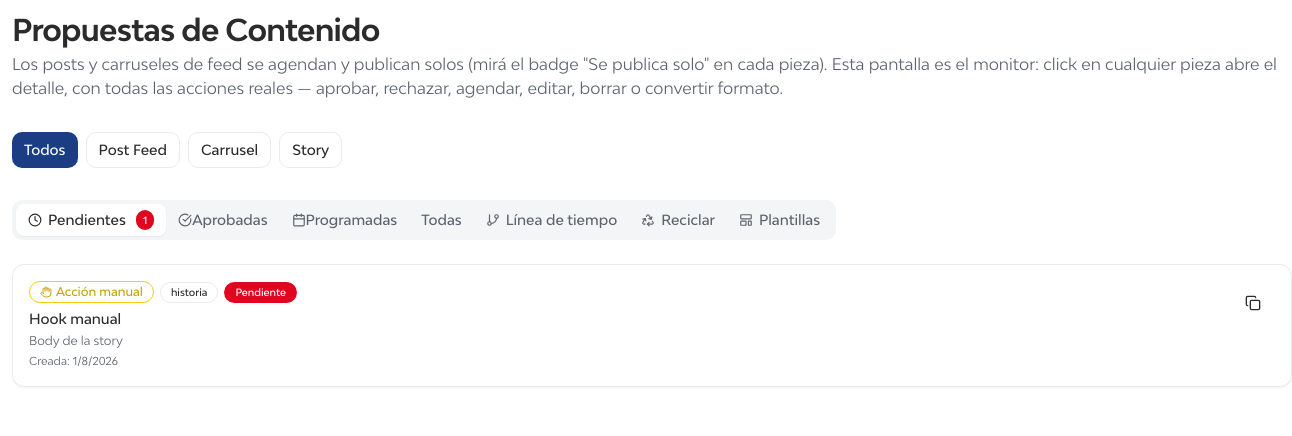
Propuestas Page › distinguishes autonomous vs manual pipeline formats
Expected: the text "Acción manual" is shown, [29,281,154,303]
Press the mouse on the tab "Programadas" at [344, 220], box [280,204,409,236]
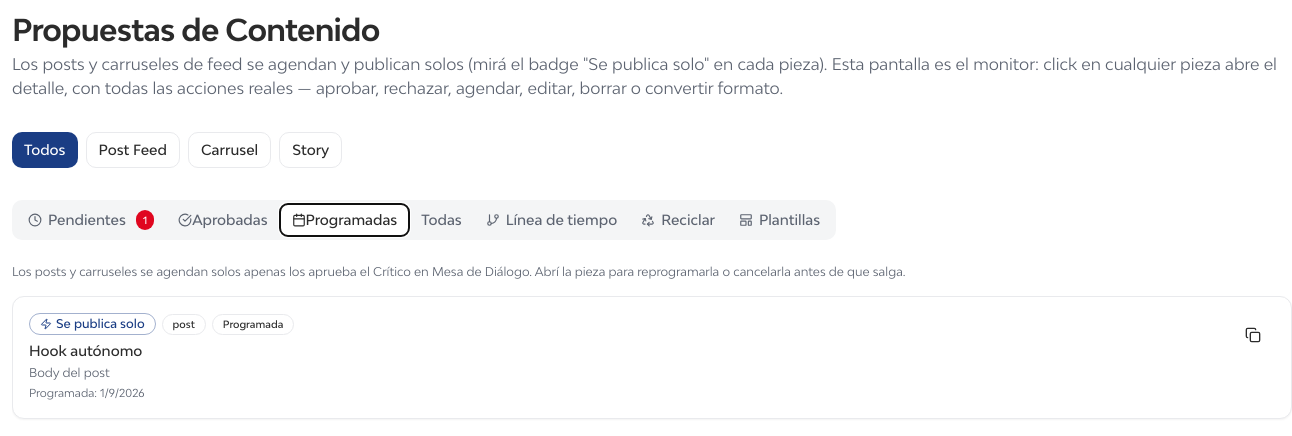
Expected: the text "Se publica solo" is shown, [29,313,156,335]
